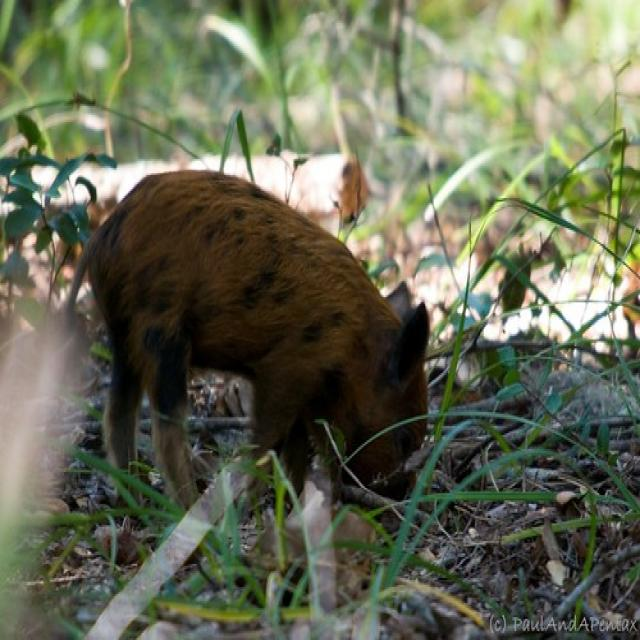boar: (52, 120, 452, 557)
